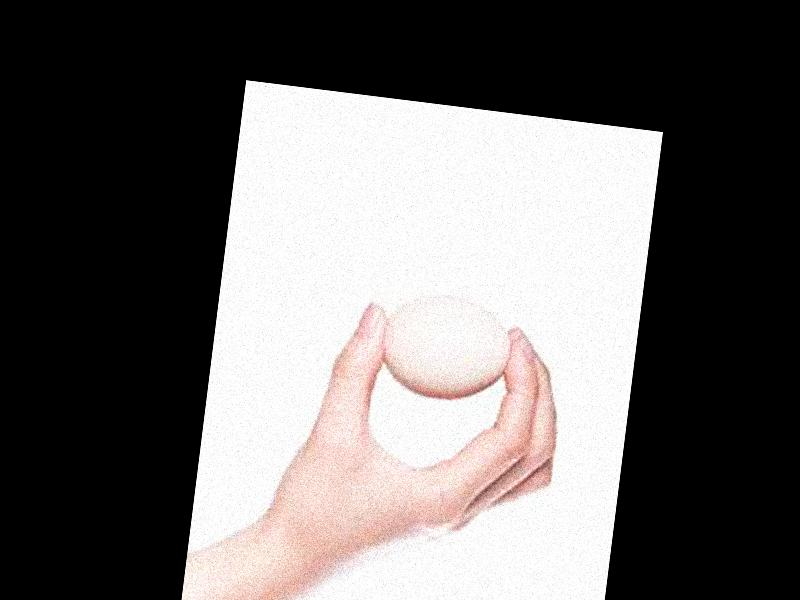Eggs: (376, 288, 517, 407)
